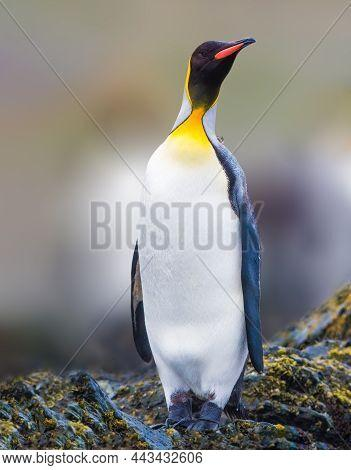king: (91, 28, 312, 432)
